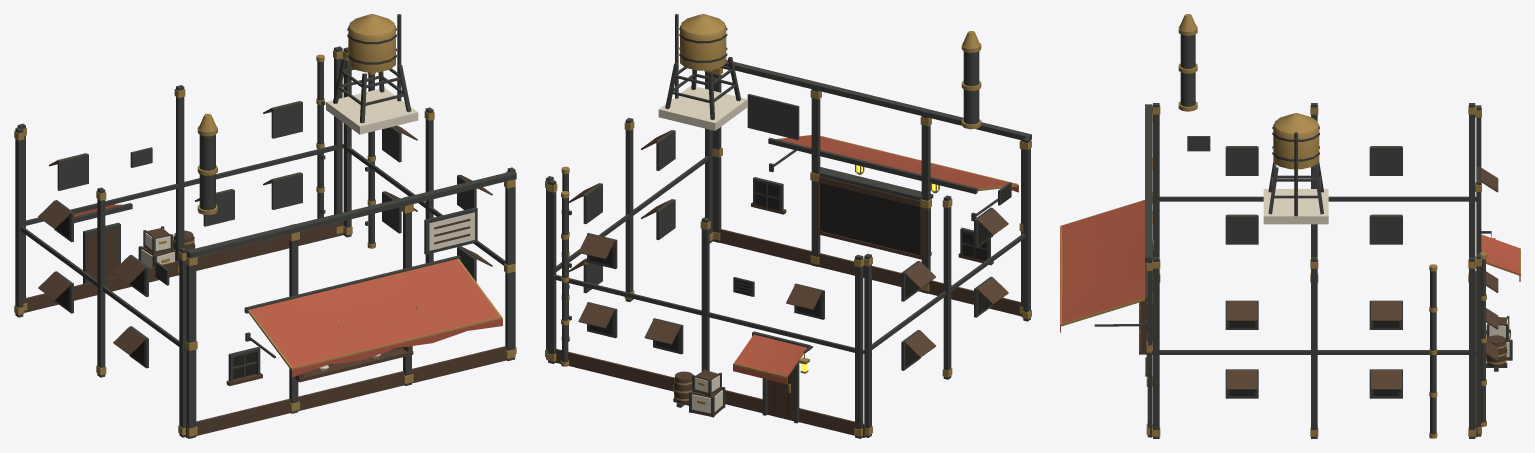
The model's file is diner_front.glb.
3 renders of one model, left to right at view 1: azimuth 30°, elevation 25°; view 2: azimuth 150°, elevation 25°; view 3: azimuth 270°, elevation 25°, orthographic. The views are drawn at different scales.
Visible parts, largest first — view 1: diner_front; view 2: diner_front; view 3: diner_front.
Boxes of the visible parts, <box> form: diner_front: <box>14,14,516,438</box>; diner_front: <box>545,14,1031,438</box>; diner_front: <box>1060,14,1520,438</box>.
Bounding box in the file's own units: 11.22 × 8.94 × 12.78.
